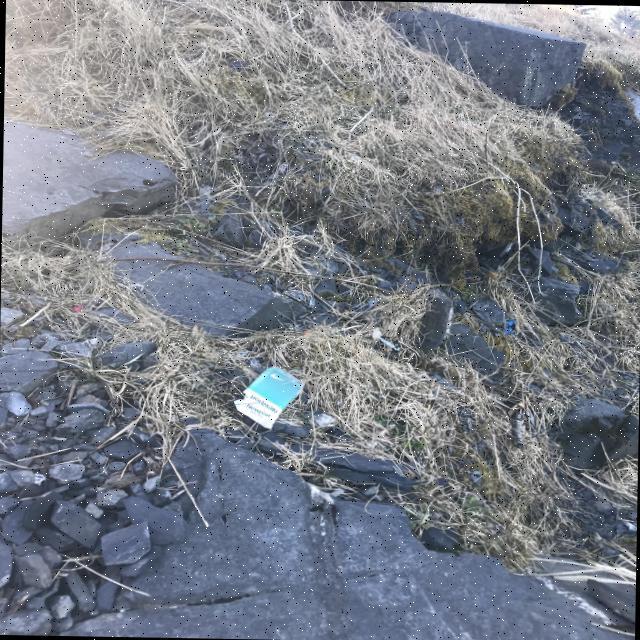Other carton: (233, 367, 304, 429)
Other plastic bottle: (73, 305, 81, 311)
Unlabeled litter: (380, 337, 397, 349), (505, 319, 515, 334), (373, 329, 380, 338), (310, 299, 312, 306)
